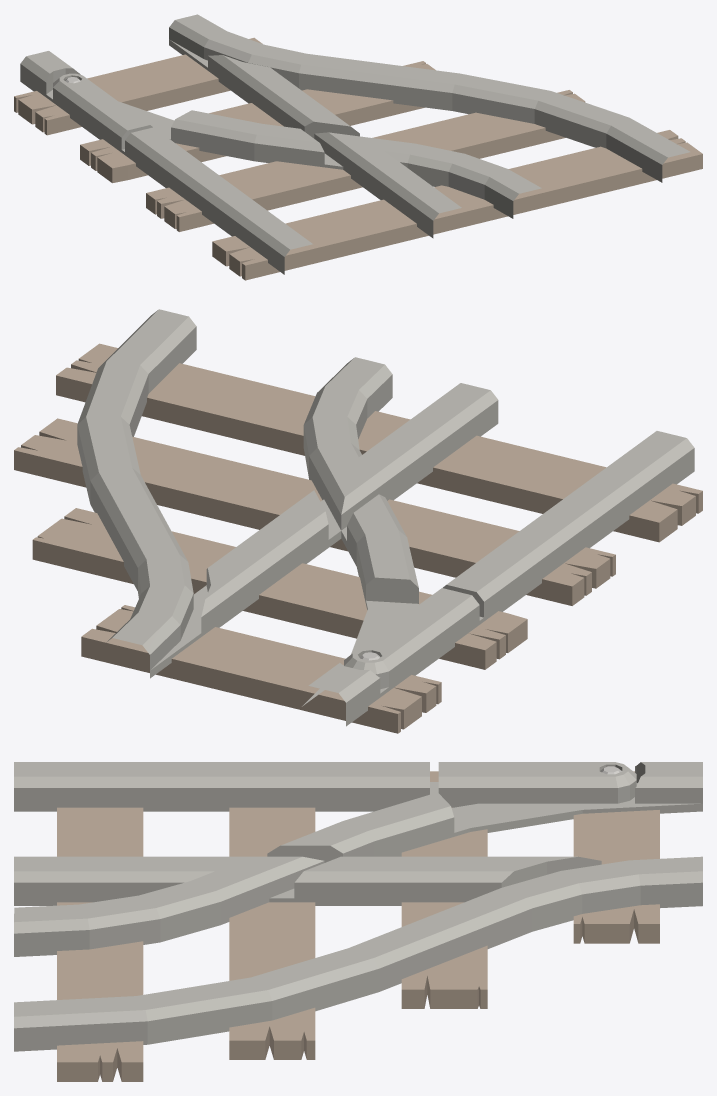
The model's file is Cave_Prop_Railway_Switch.glb.
3 renders of one model, top to bottom at view 1: azimuth 30°, elevation 25°; view 2: azimuth 150°, elevation 25°; view 3: azimuth 270°, elevation 25°, orthographic. The views are drawn at different scales.
Visible parts, largest first — view 1: Cave_Prop_Railway_Switch; view 2: Cave_Prop_Railway_Switch; view 3: Cave_Prop_Railway_Switch.
Boxes of the visible parts, x1,y1,x2,y2 form: Cave_Prop_Railway_Switch: (14, 14, 702, 280); Cave_Prop_Railway_Switch: (14, 309, 702, 733); Cave_Prop_Railway_Switch: (14, 762, 702, 1081).
Bounding box in the file's own units: 2 × 0.15 × 2.
